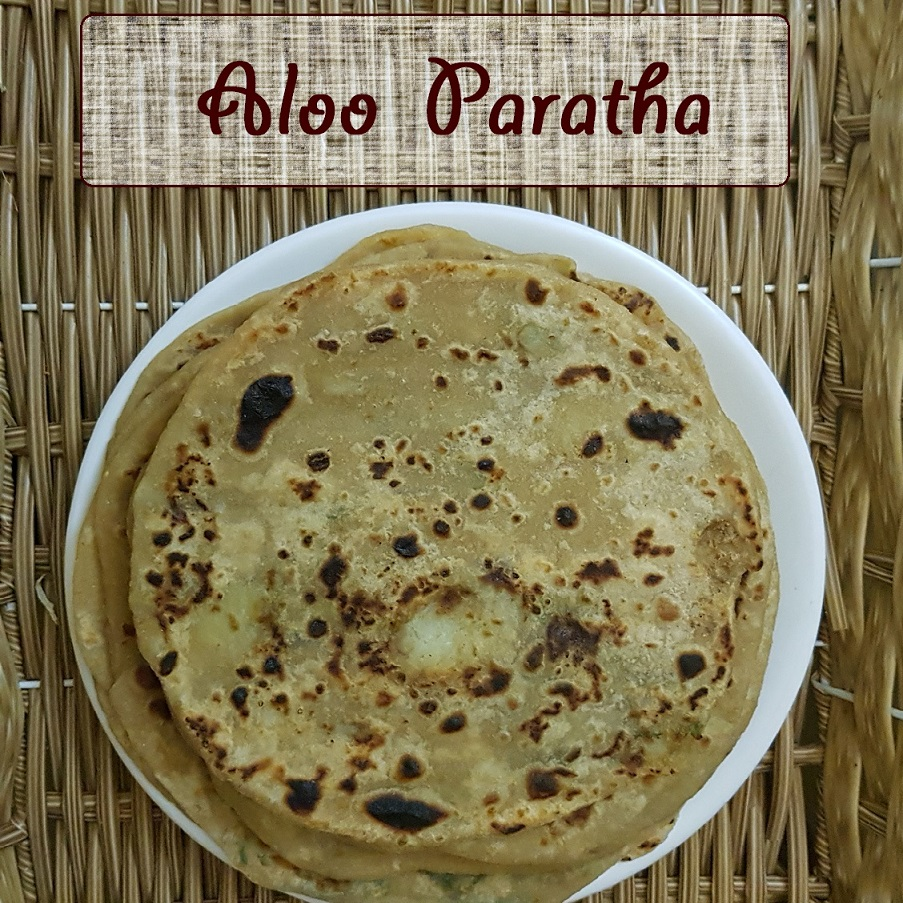aloo_paratha: (61, 224, 778, 903)
